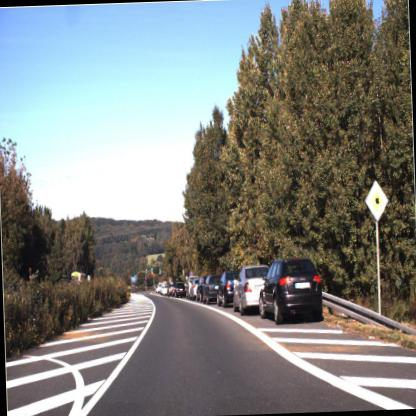other: (360, 180, 392, 224)
